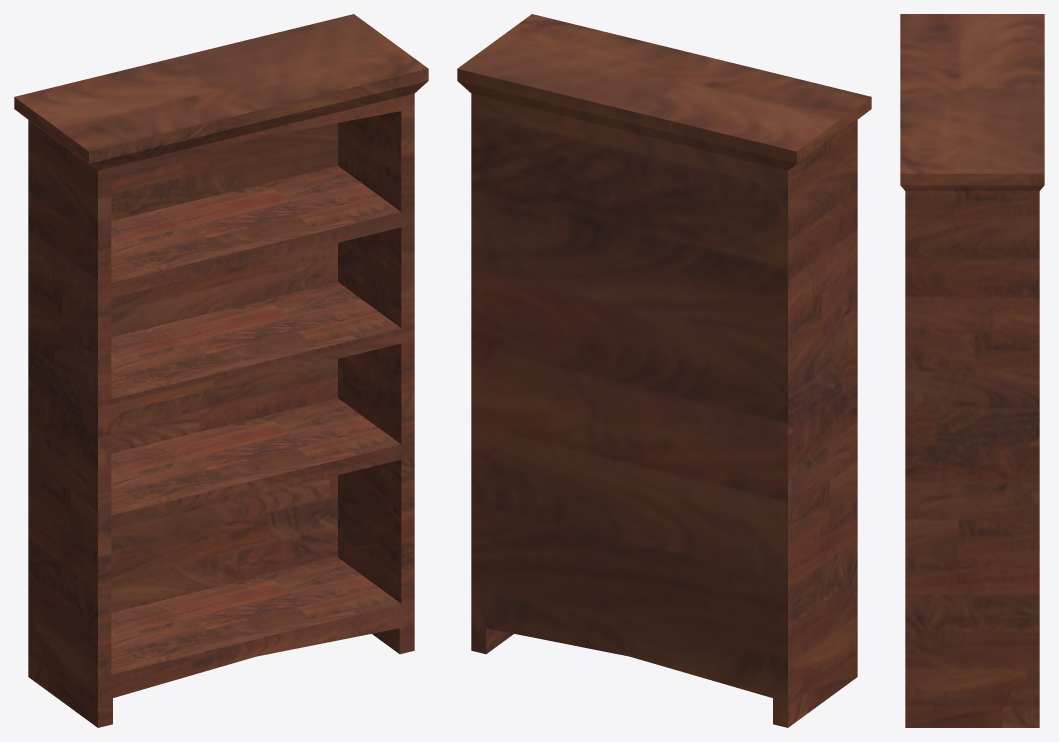
The model's file is Book Case.fbx.
3 views of the same model, side by side, from view 1: azimuth 30°, elevation 25°; view 2: azimuth 150°, elevation 25°; view 3: azimuth 270°, elevation 25° (orthographic). The views are drawn at different scales.
Visible parts, largest first — view 1: Book_Case; view 2: Book_Case; view 3: Book_Case.
Boxes of the visible parts, left/top/right/bottom form: Book_Case: left=14, top=14, right=428, bottom=727; Book_Case: left=457, top=14, right=871, bottom=727; Book_Case: left=900, top=14, right=1044, bottom=727.
Bounding box in the file's own units: 3.51 × 5.74 × 1.34.
